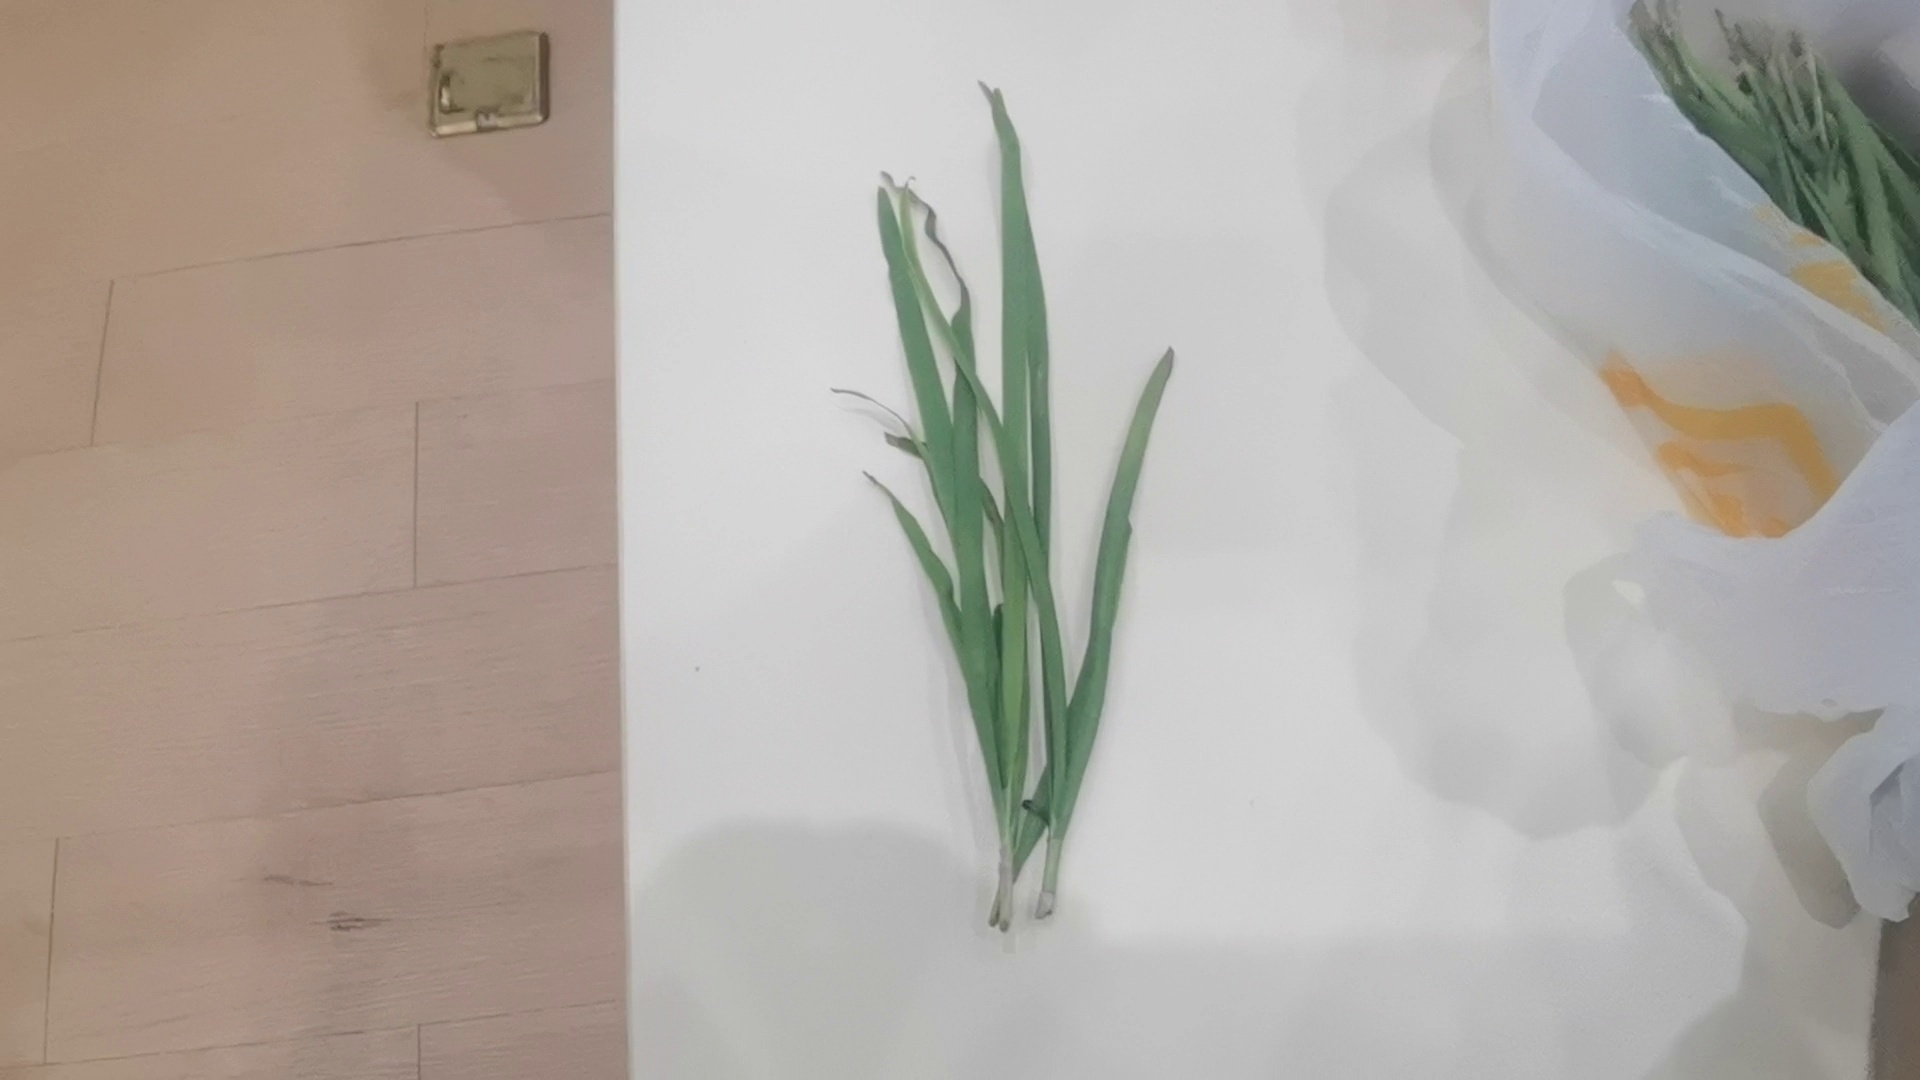chives: (829, 62, 1187, 951)
